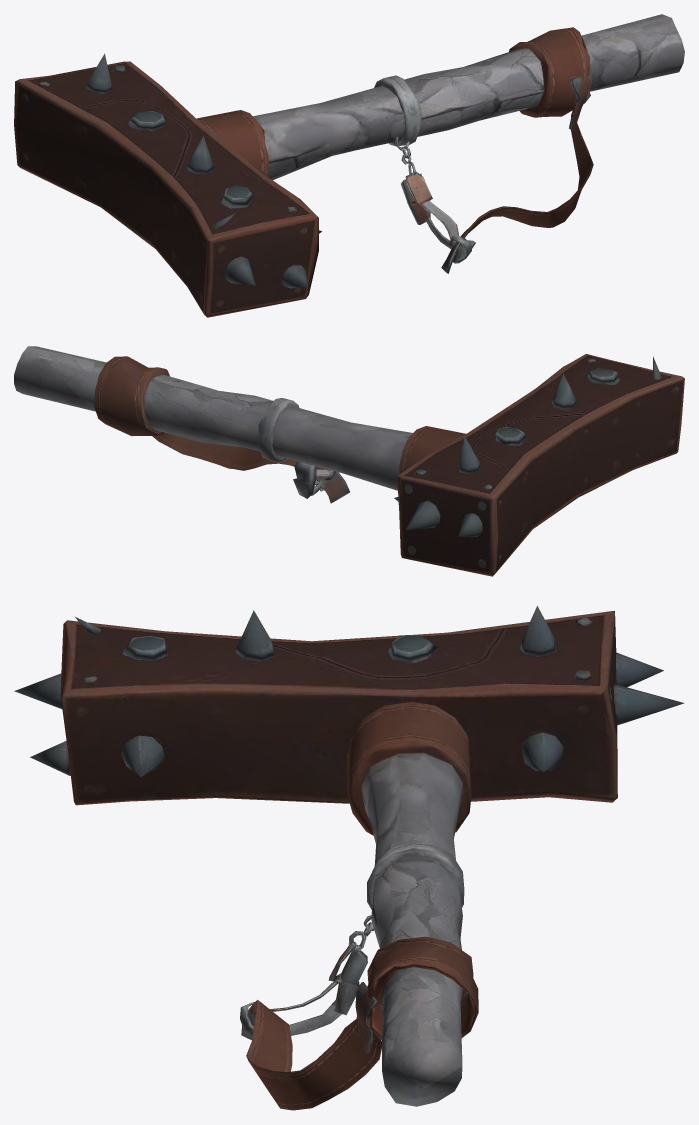
The model's file is club.glb.
3 renders of one model, top to bottom at view 1: azimuth 30°, elevation 25°; view 2: azimuth 150°, elevation 25°; view 3: azimuth 270°, elevation 25°, orthographic. The views are drawn at different scales.
Size of the model in its own units: 0.9546 by 0.3155 by 0.683.
Materials: 1 (1 with a texture image).
